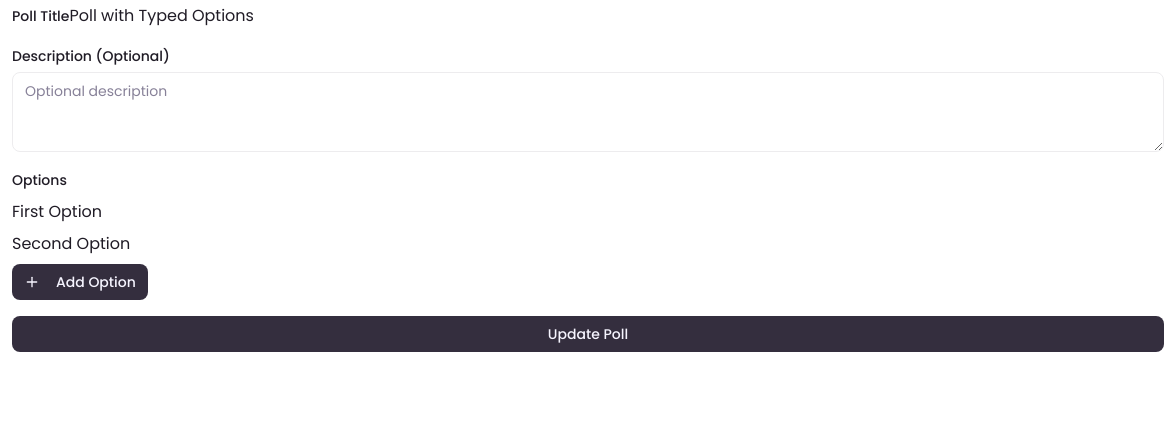
Scenario: EditPollForm Type Compatibility Tests › correctly handles PollOption objects from index.ts
Check: the 1st field with placeholder "Option 1" holds "First Option", box [12, 200, 328, 224]
Check: the 2nd field with placeholder "Option 2" holds "Second Option", box [12, 232, 328, 256]
// Test adding a new option
Click the button "Add Option": [80, 282] box [12, 264, 148, 300]
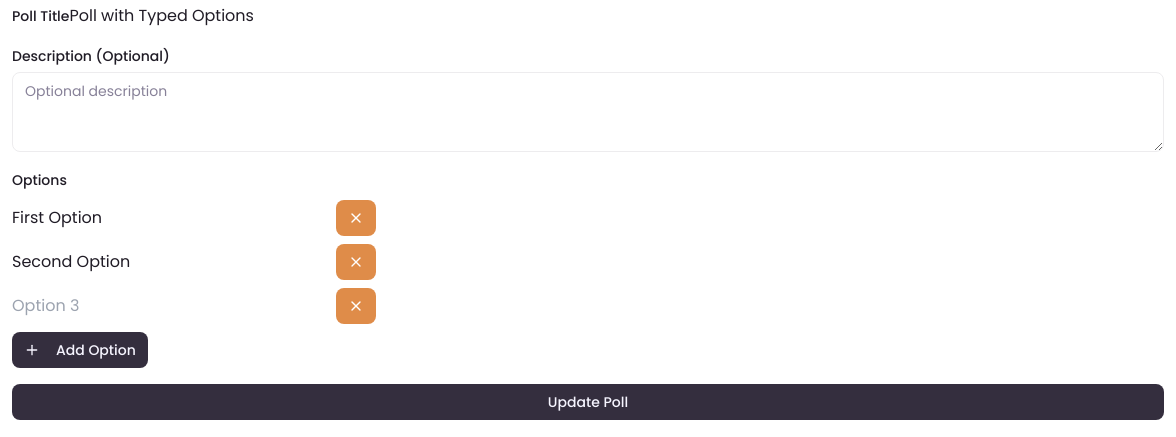
Check: the number of fields with placeholder "Option 1" is 3, box [12, 206, 328, 230]; [12, 250, 328, 274]; [12, 294, 328, 318]
